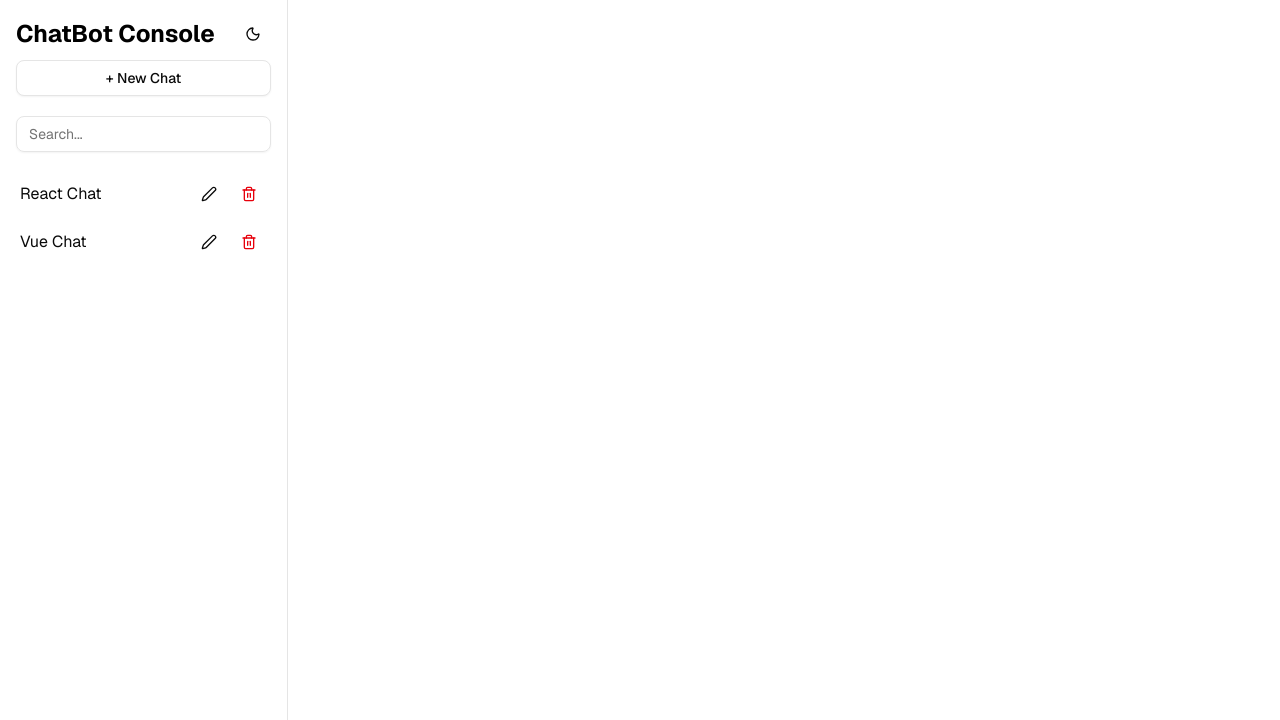
Scenario: Sidebar › удаление диалога
# нажимаем кнопку удаления у первого чата
Click the 1st button named "delete": (249, 194) [231, 176, 267, 212]
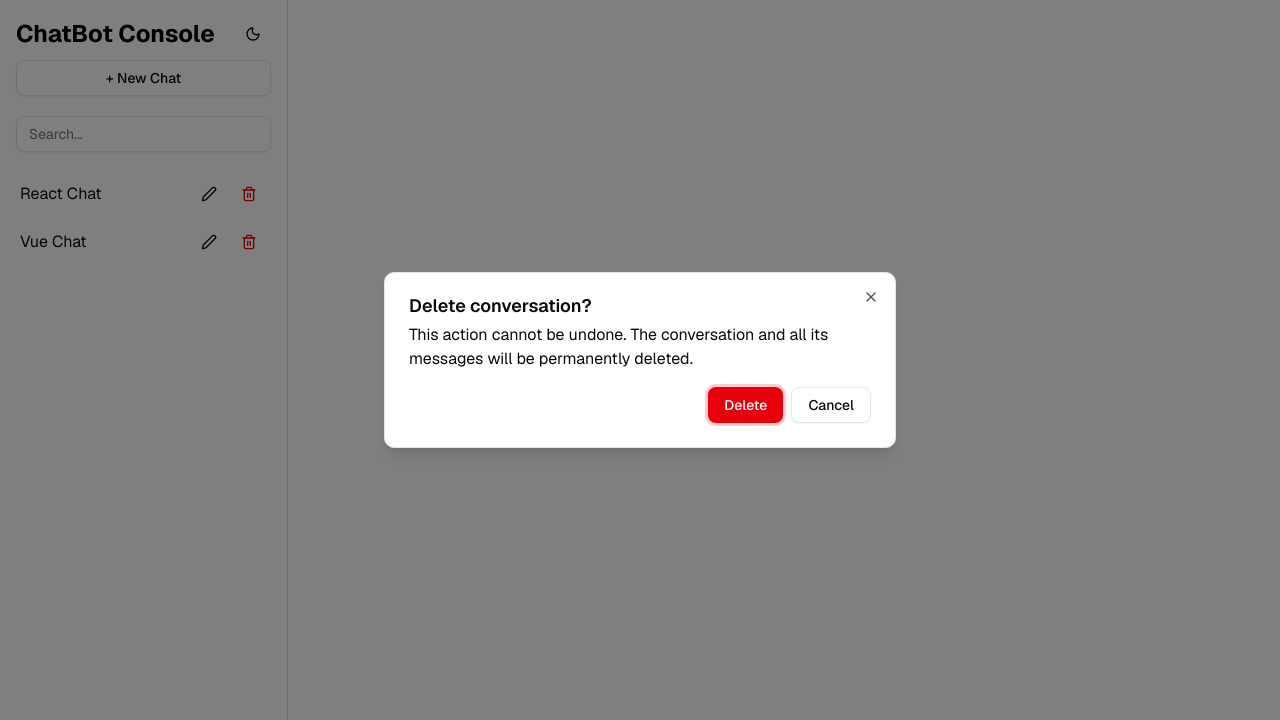
Result: the dialog is shown at [384, 272, 896, 448]
# подтверждаем удаление
Click the button "Delete": (746, 405) [708, 387, 784, 423]
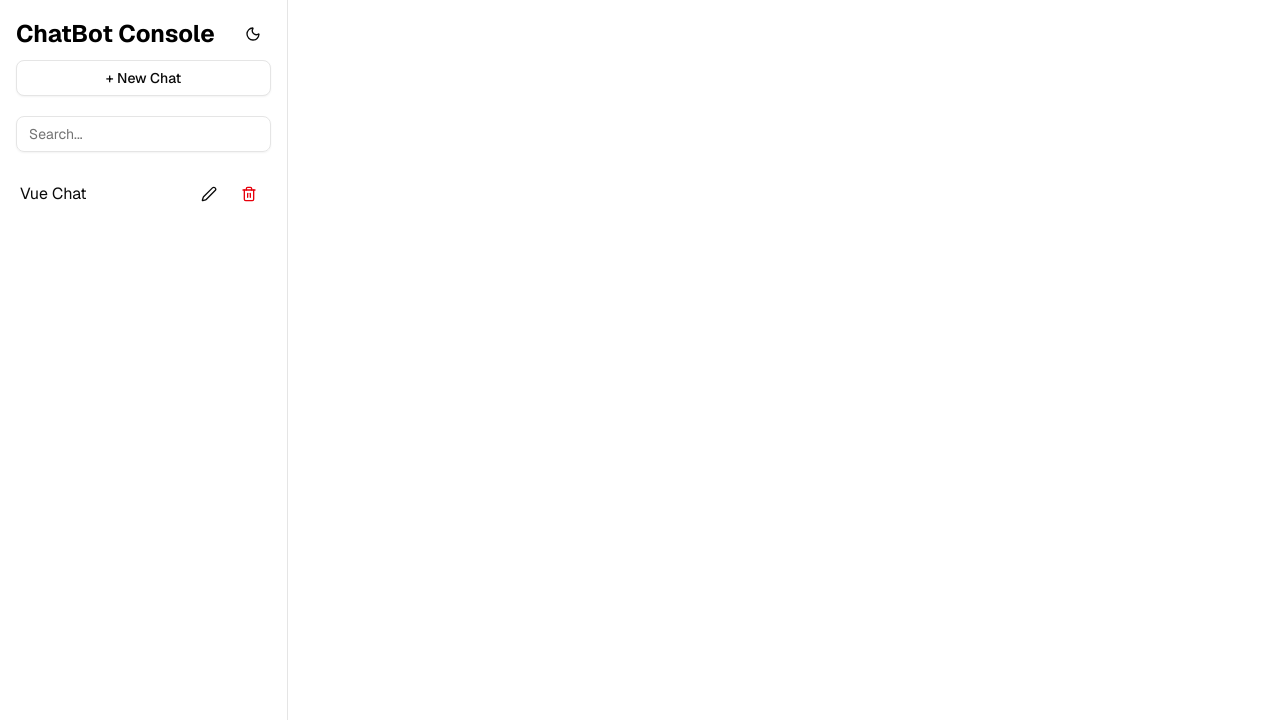
Result: the button "React Chat" is gone
